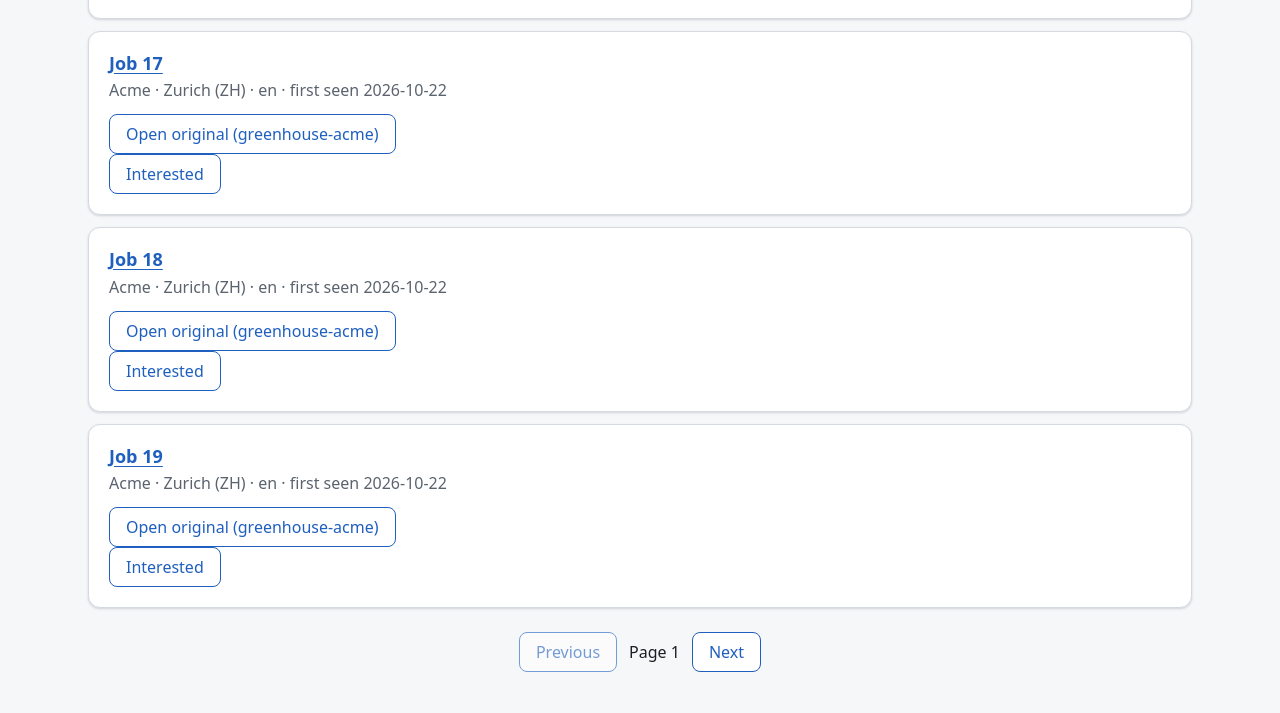
Test: search and paging › pages forward and back; previous is off on the first page and next on a short page
The width and height of the screenshot is (1280, 713).
(page scrolled)
Check: the button "Previous" is disabled, box x1=519 y1=632 x2=617 y2=672
Click the button "Next": (727, 652) x1=692 y1=632 x2=761 y2=672
(page scrolled)
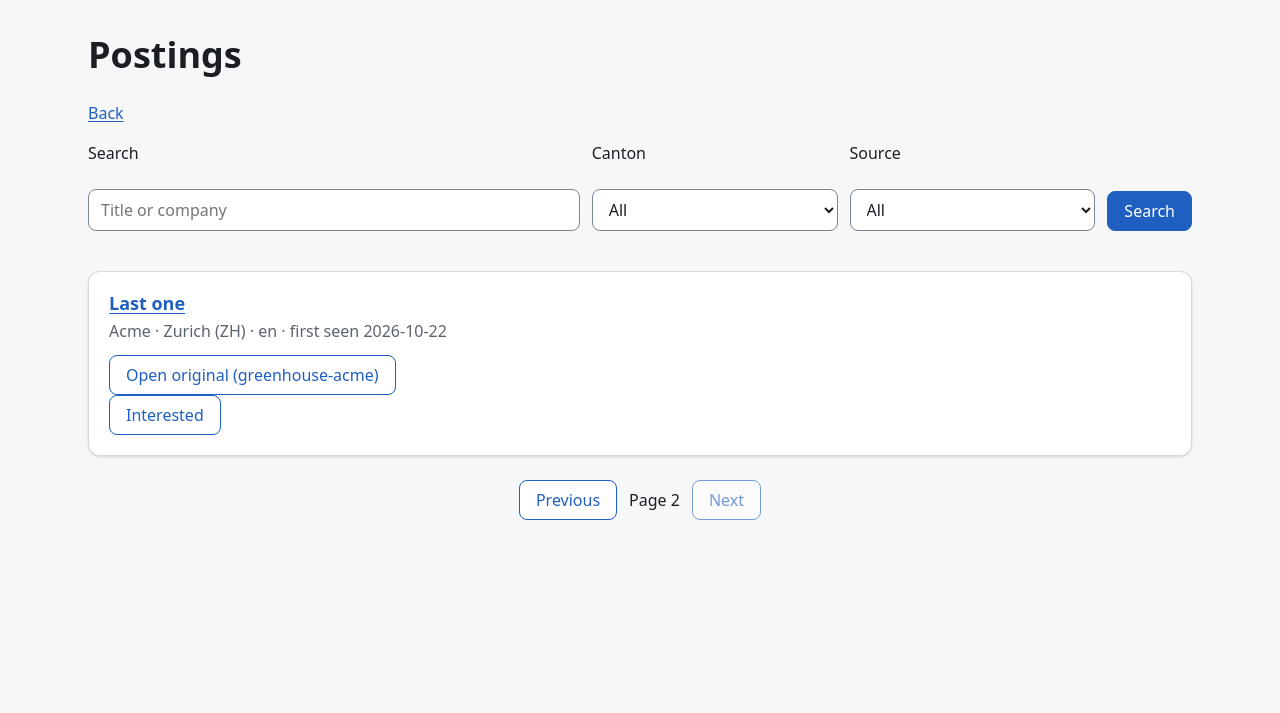
Check: the link "Last one" is shown, box x1=109 y1=291 x2=185 y2=315
Check: the button "Next" is disabled, box x1=692 y1=480 x2=761 y2=520
Click the button "Previous": (568, 500) x1=519 y1=480 x2=617 y2=520
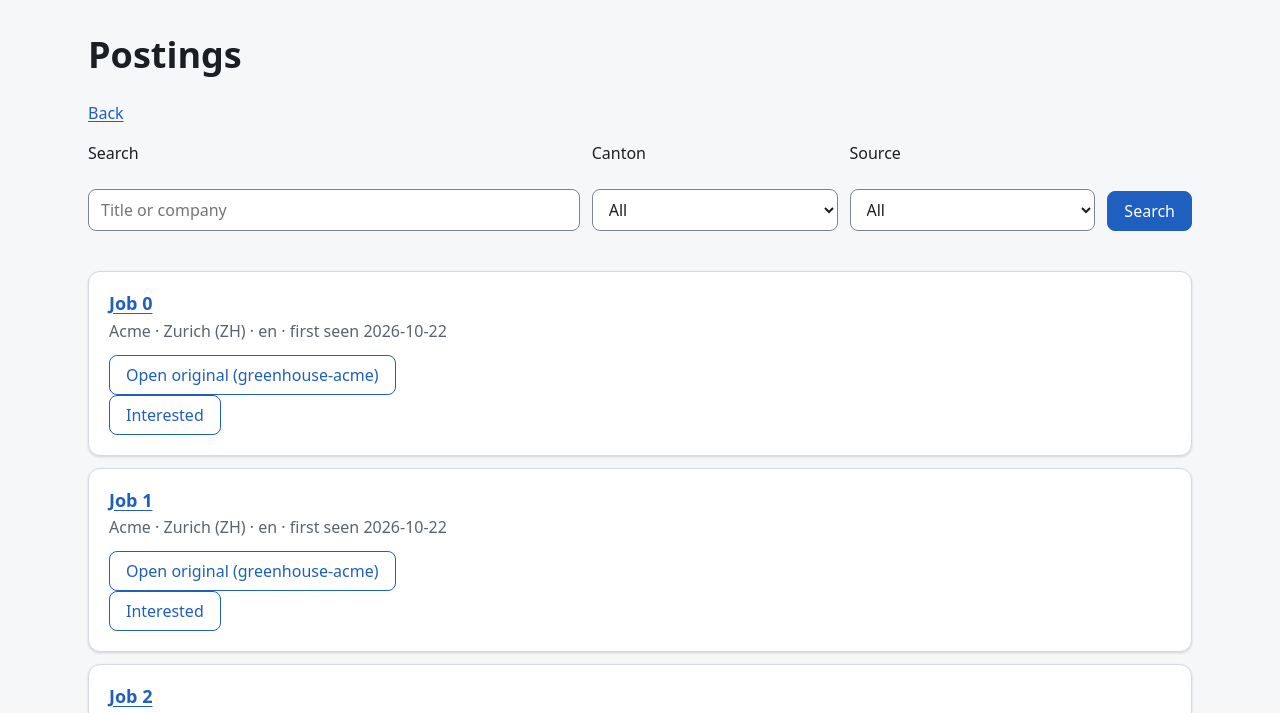
Check: the link "Job 0" is shown, box x1=109 y1=291 x2=152 y2=315
